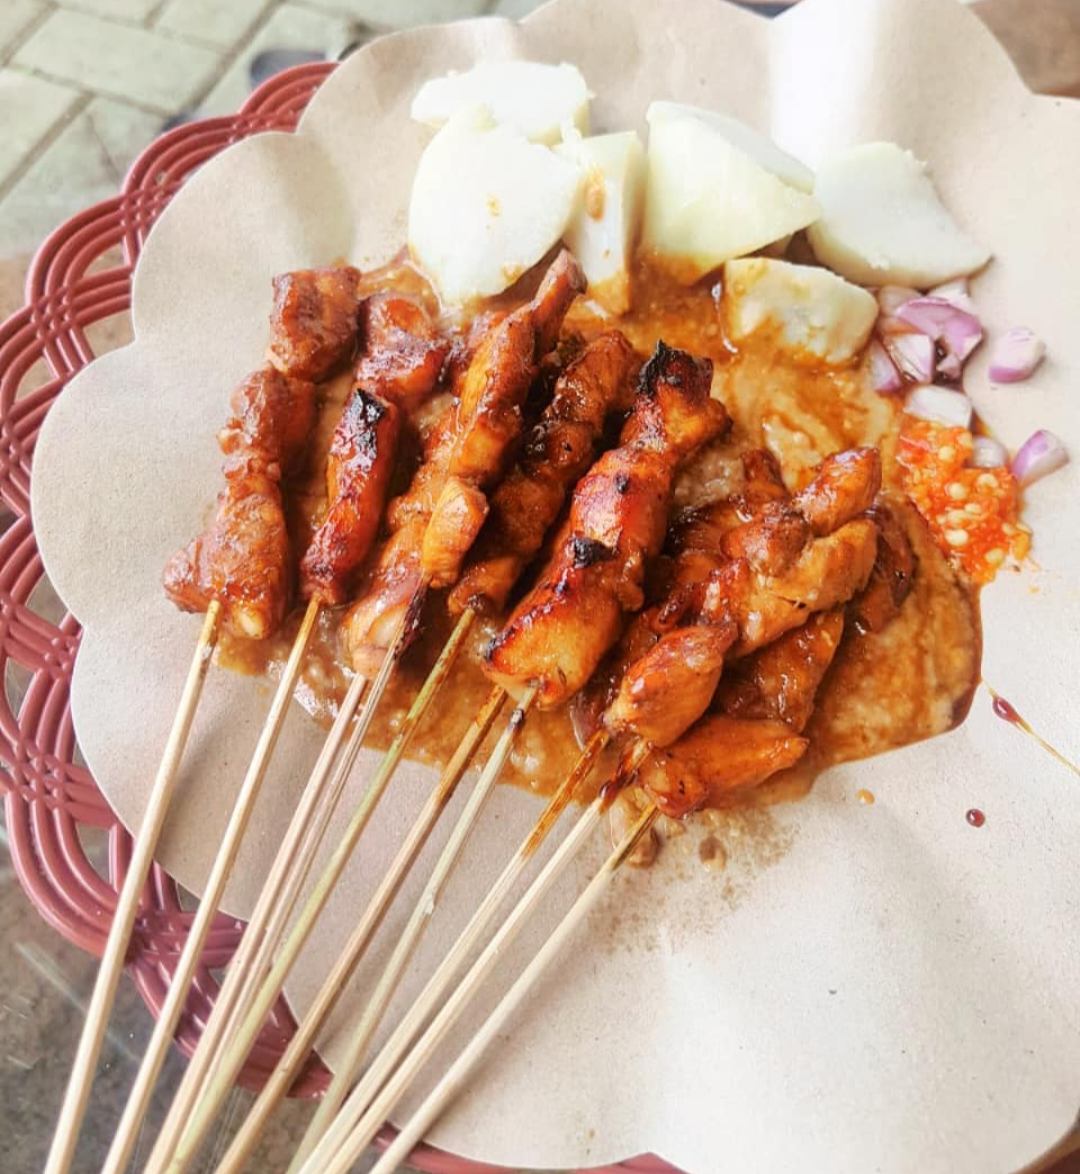sate: (61, 256, 888, 1174)
